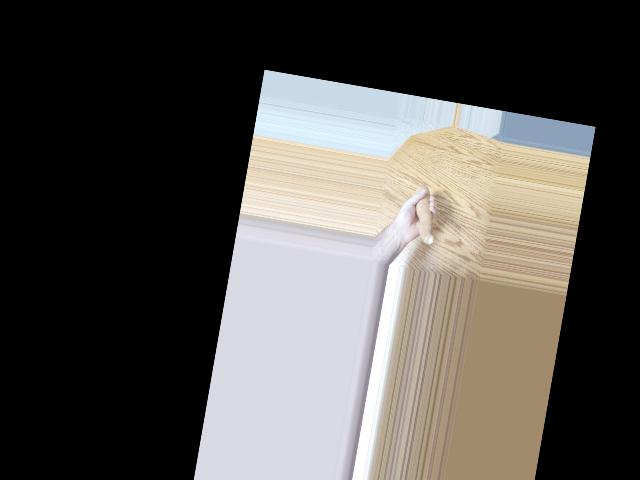sweet_potato: (408, 181, 442, 248)
